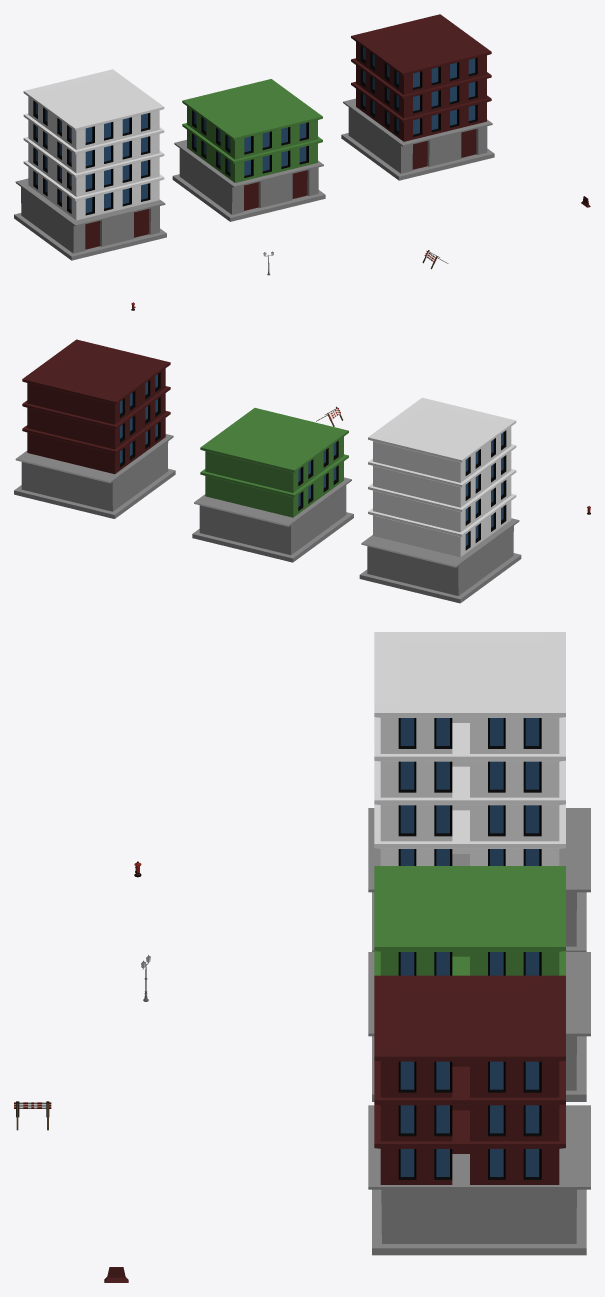
File: bina_ve_birkac_arac_gerec.fbx
The picture shows the model from 3 angles, top to bottom: view 1: azimuth 30°, elevation 25°; view 2: azimuth 150°, elevation 25°; view 3: azimuth 270°, elevation 25°; orthographic projection. The views are drawn at different scales.
Parts seen in each view (by area): view 1: beyaz bina 4 kat.001, bordo bina 3 kat.001, yesil bina 2 kat.001; view 2: beyaz bina 4 kat.001, bordo bina 3 kat.001, yesil bina 2 kat.001; view 3: bordo bina 3 kat.001, beyaz bina 4 kat.001, yesil bina 2 kat.001.
Boxes of the visible parts, bbox=[...] form: beyaz bina 4 kat.001: bbox=[14, 69, 166, 260]; bordo bina 3 kat.001: bbox=[341, 14, 494, 180]; yesil bina 2 kat.001: bbox=[172, 79, 325, 221]; beyaz bina 4 kat.001: bbox=[359, 397, 521, 603]; bordo bina 3 kat.001: bbox=[14, 339, 175, 518]; yesil bina 2 kat.001: bbox=[192, 408, 353, 562]; bordo bina 3 kat.001: bbox=[368, 975, 590, 1255]; beyaz bina 4 kat.001: bbox=[368, 632, 590, 951]; yesil bina 2 kat.001: bbox=[368, 866, 590, 1101].
Bounding box in the file's own units: 6482 × 1839 × 3864.
